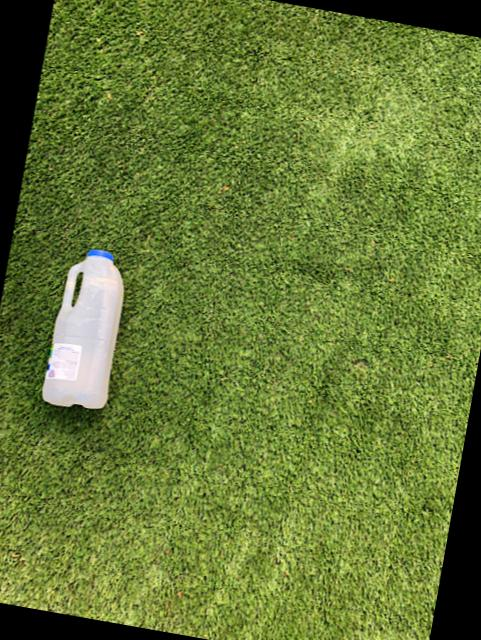plastic: (43, 249, 124, 407)
